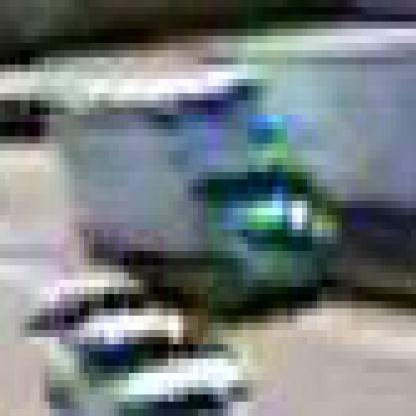car: (36, 317, 259, 410)
truck: (41, 66, 338, 324)
